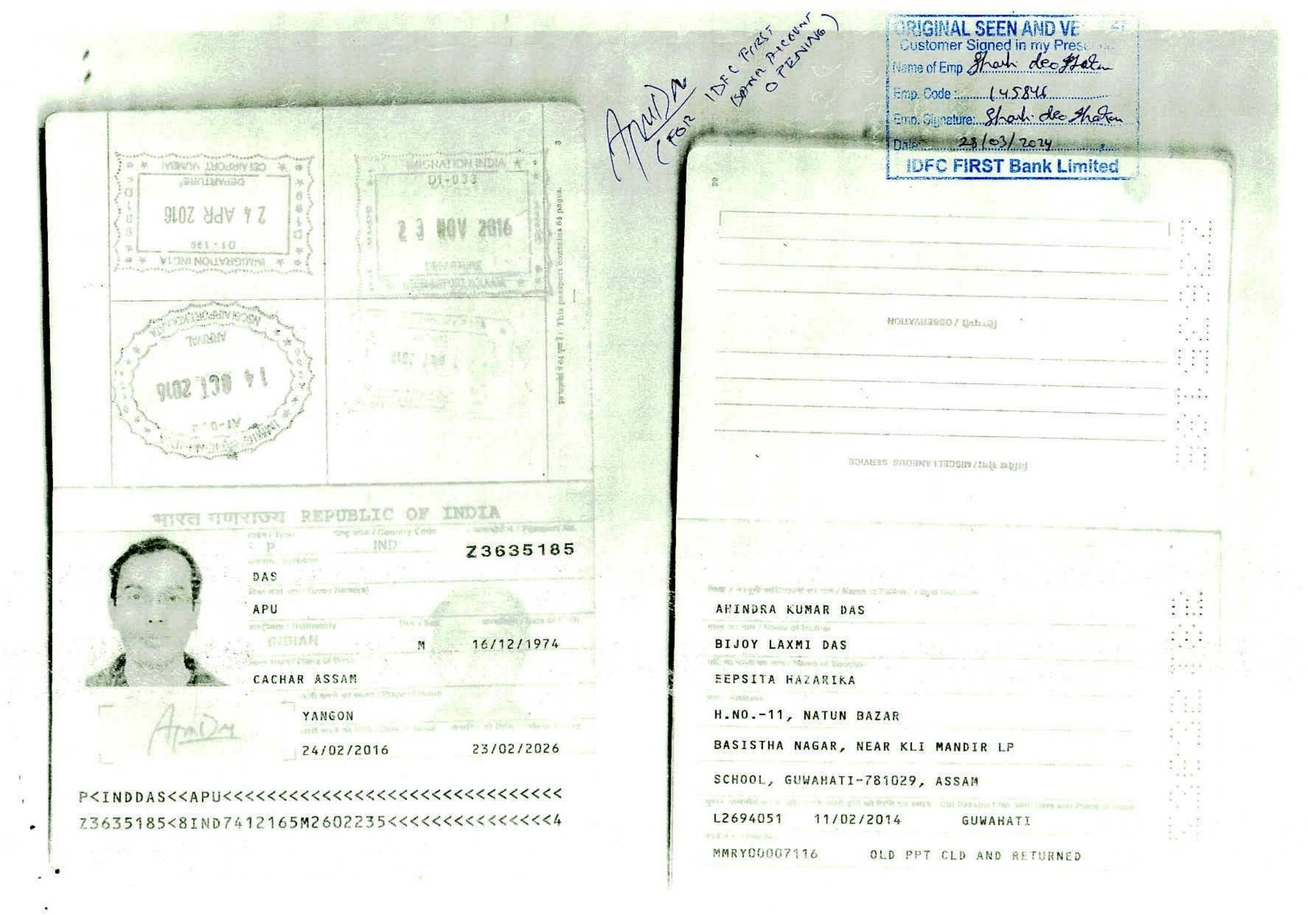DOB: (462, 629, 573, 655)
File_no: (701, 841, 1084, 870)
Surname: (242, 567, 281, 590)
address: (704, 698, 1037, 795)
country_code: (364, 536, 407, 559)
date_of_expiry: (458, 732, 575, 760)
date_of_issue: (291, 737, 411, 768)
details: (60, 781, 571, 835)
father_name: (709, 595, 880, 623)
mother_name: (709, 631, 857, 655)
name: (240, 596, 373, 624)
nationality: (258, 630, 334, 653)
old_passport_details: (707, 801, 1046, 830)
passport_no: (457, 535, 583, 564)
photo: (86, 546, 227, 686)
place_of_issue: (236, 667, 370, 691), (299, 706, 366, 731)
sex: (402, 630, 442, 657)
sign: (139, 705, 246, 752)
spouse_name: (707, 667, 861, 693)
type: (253, 537, 287, 559)
